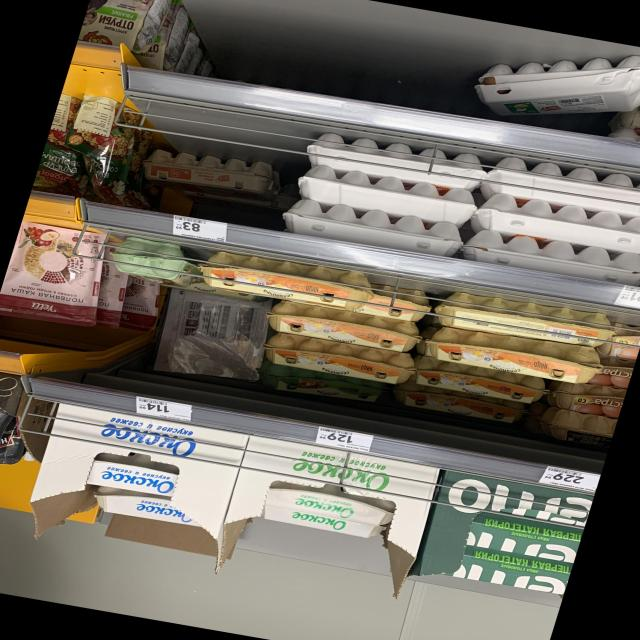organic waste: (33, 86, 152, 202), (190, 247, 384, 317), (0, 218, 121, 330), (422, 322, 606, 392), (261, 297, 429, 357), (258, 329, 422, 388), (137, 144, 287, 205), (256, 475, 404, 530), (414, 356, 557, 408), (390, 381, 533, 427), (81, 482, 212, 532), (76, 0, 180, 61), (255, 362, 392, 408), (252, 505, 391, 546), (85, 448, 185, 499), (106, 274, 172, 336), (534, 406, 618, 453), (543, 374, 627, 420), (112, 235, 188, 280), (0, 369, 24, 494), (600, 320, 640, 361), (595, 353, 636, 390)
